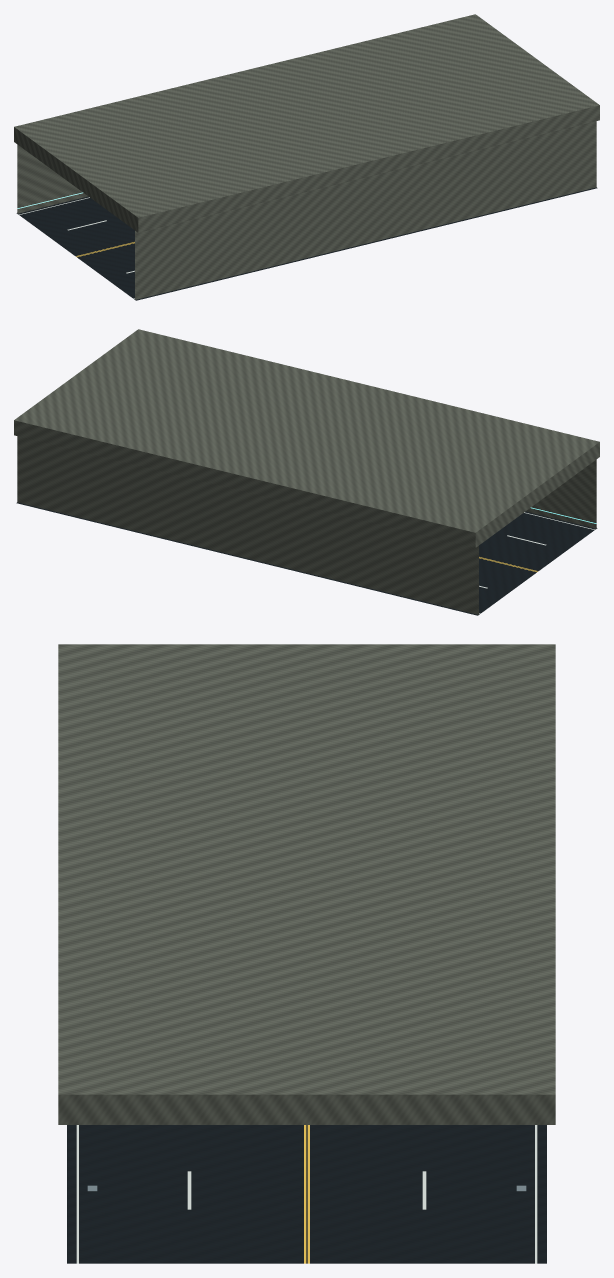
Rendered from underpass_box_culvert_32m_LOD0.glb.
3 views of the same model, one above another, from view 1: azimuth 30°, elevation 25°; view 2: azimuth 150°, elevation 25°; view 3: azimuth 270°, elevation 25° (orthographic). The views are drawn at different scales.
Parts seen in each view (by area): view 1: underpass_box_culvert_32m__roof_slab, underpass_box_culvert_32m__retaining_walls, underpass_box_culvert_32m__channel; view 2: underpass_box_culvert_32m__roof_slab, underpass_box_culvert_32m__retaining_walls, underpass_box_culvert_32m__channel; view 3: underpass_box_culvert_32m__roof_slab, underpass_box_culvert_32m__channel.
Boxes of the visible parts, x1=… form: underpass_box_culvert_32m__roof_slab: x1=14, y1=14, x2=599, y2=232; underpass_box_culvert_32m__retaining_walls: x1=17, y1=121, x2=596, y2=299; underpass_box_culvert_32m__channel: x1=16, y1=187, x2=597, y2=300; underpass_box_culvert_32m__roof_slab: x1=14, y1=329, x2=599, y2=547; underpass_box_culvert_32m__retaining_walls: x1=17, y1=436, x2=596, y2=614; underpass_box_culvert_32m__channel: x1=16, y1=502, x2=597, y2=615; underpass_box_culvert_32m__roof_slab: x1=58, y1=644, x2=555, y2=1124; underpass_box_culvert_32m__channel: x1=67, y1=1125, x2=546, y2=1263.
Bounding box in the file's own units: 32 × 5.6 × 14.93.
7 materials, 3 textured.
